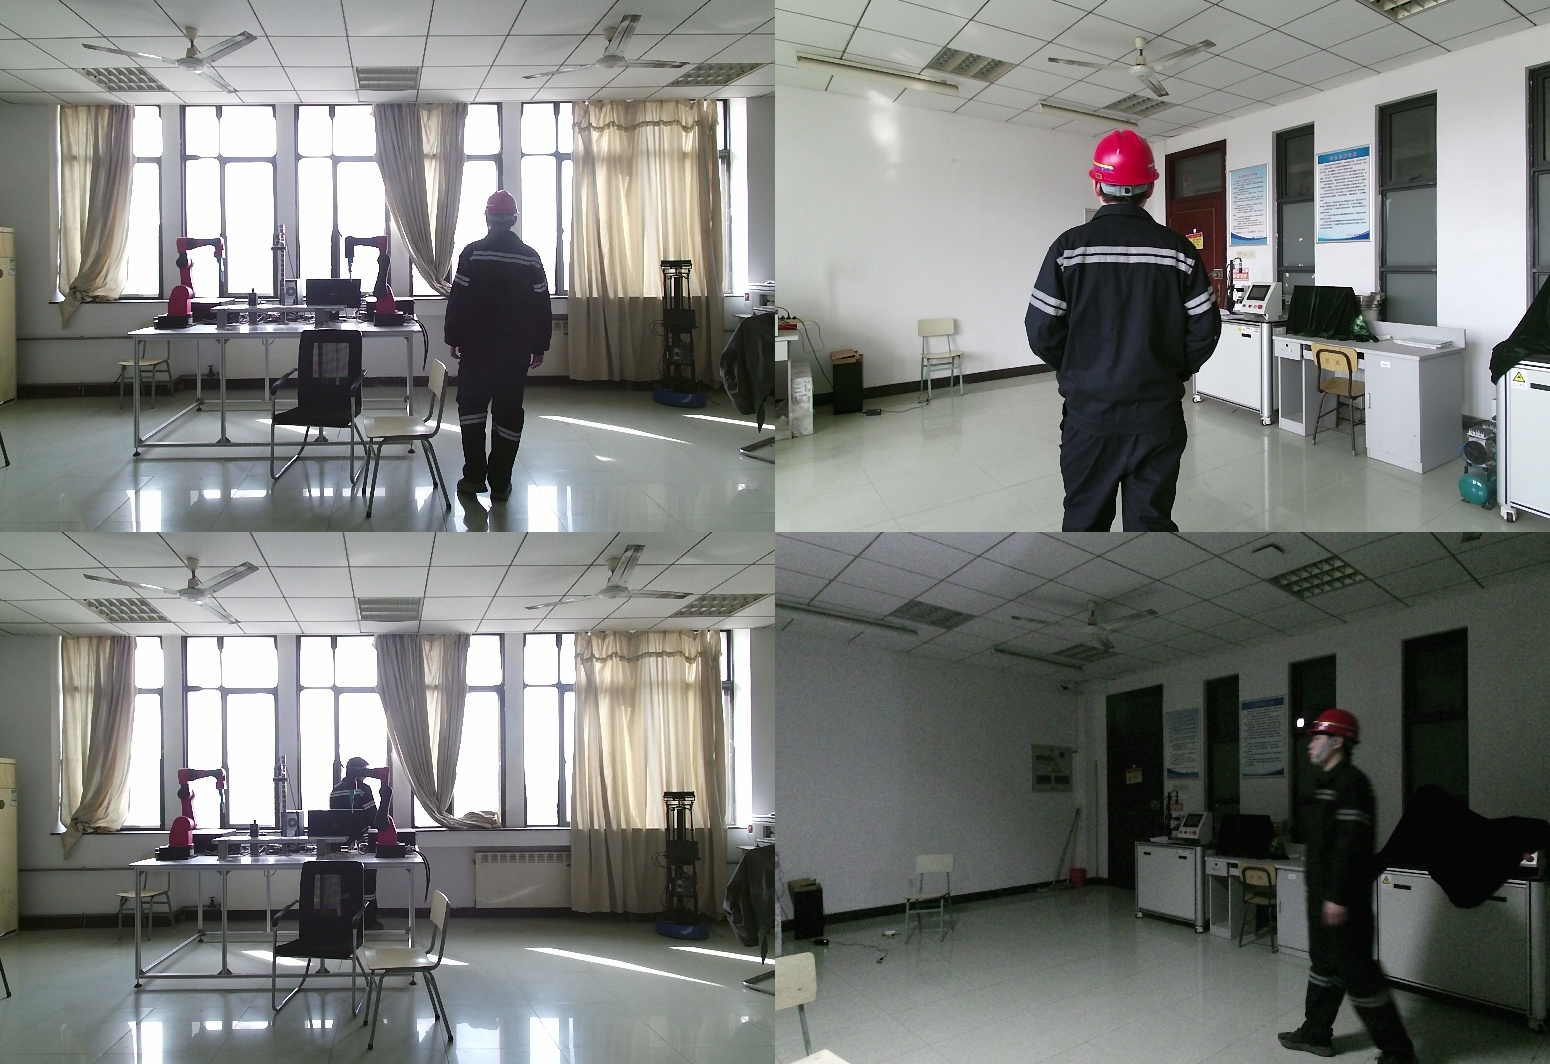person: (1027, 129, 1242, 532), (1286, 706, 1438, 1064), (448, 190, 556, 532), (332, 758, 392, 935)
